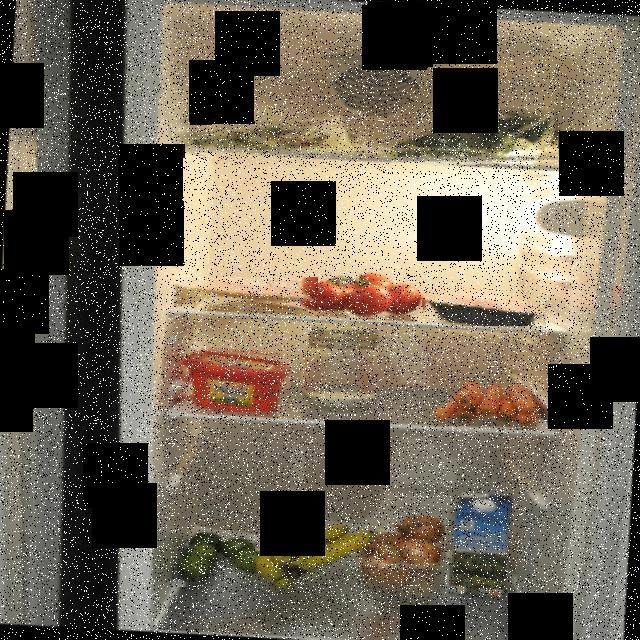banana: (250, 524, 378, 600)
butter: (177, 346, 291, 412)
carrot: (432, 377, 548, 431)
flour: (298, 322, 396, 416)
green_beans: (177, 110, 366, 158)
ground_beef: (420, 284, 546, 326)
ham: (174, 277, 318, 311)
lime: (170, 530, 274, 587)
milk: (449, 490, 517, 604)
onion: (353, 516, 445, 598)
spinach: (378, 106, 558, 170)
tomato: (298, 268, 428, 320)
